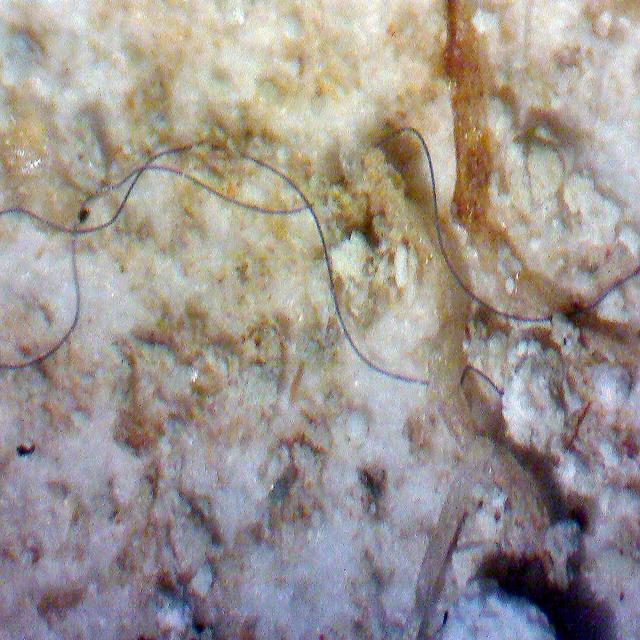microplastic: (1, 140, 427, 386), (1, 164, 316, 369), (376, 127, 640, 322)
